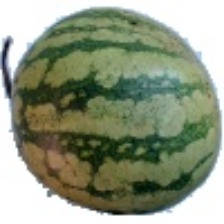watermelon: (20, 35, 207, 224)
